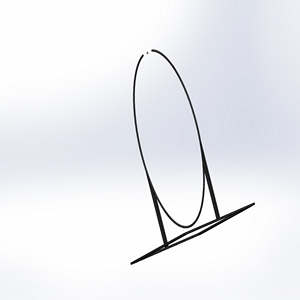circle: (127, 46, 255, 264)
